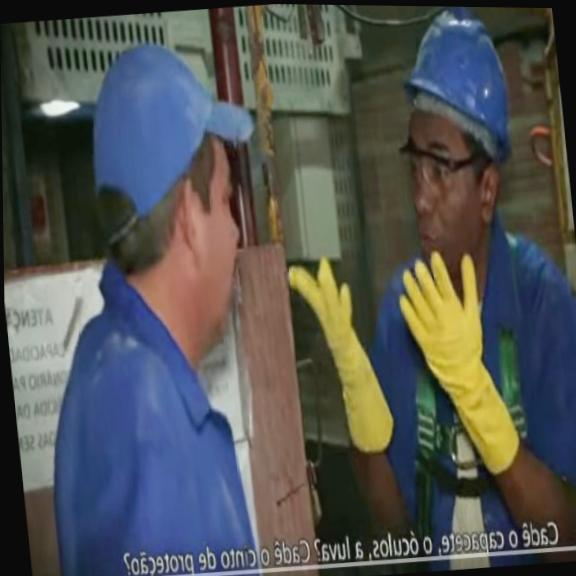no_safety_vest: (353, 215, 576, 576), (29, 247, 267, 576)
